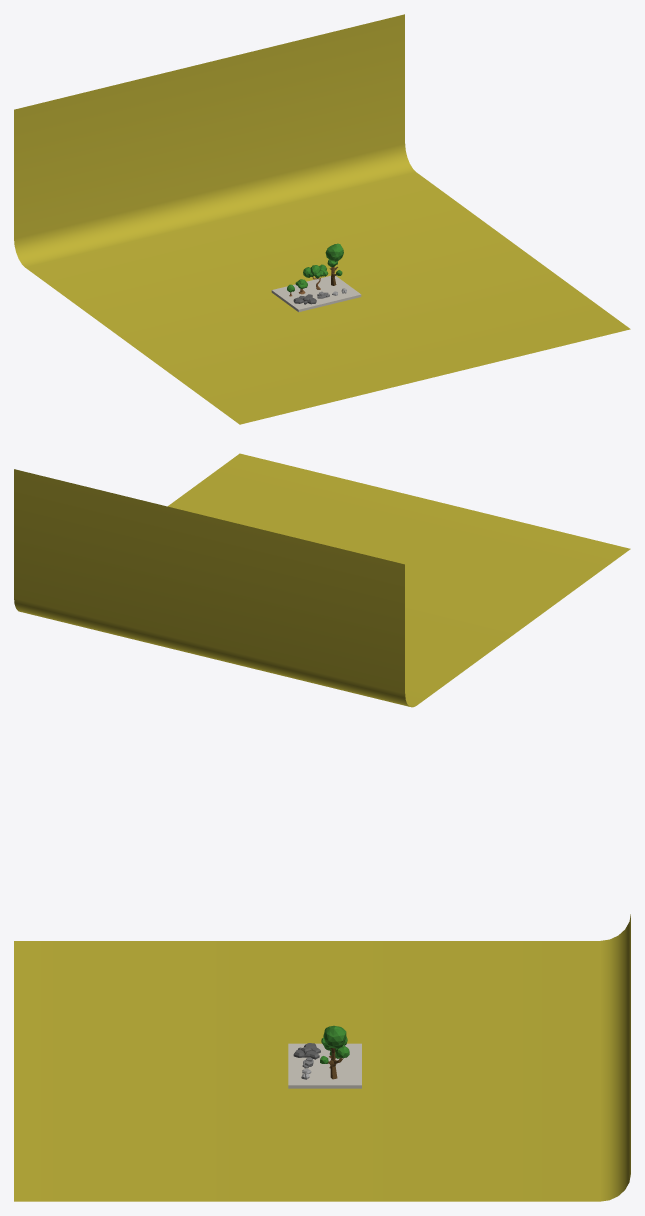
File: trees-and-rocks.fbx
3 views of the same model, one above another, from view 1: azimuth 30°, elevation 25°; view 2: azimuth 150°, elevation 25°; view 3: azimuth 270°, elevation 25° (orthographic). The views are drawn at different scales.
Visible parts, largest first — view 1: Plane, 6.001; view 2: Plane; view 3: Plane, 6.001, 9.
Part boxes in pixels (bbox=[...]): Plane: bbox=[14, 14, 630, 424]; 6.001: bbox=[271, 275, 361, 312]; Plane: bbox=[14, 453, 630, 707]; Plane: bbox=[14, 914, 630, 1201]; 6.001: bbox=[288, 1043, 361, 1088]; 9: bbox=[320, 1025, 349, 1079].
Size of the model in its own units: 24259 by 8874 by 24259.
